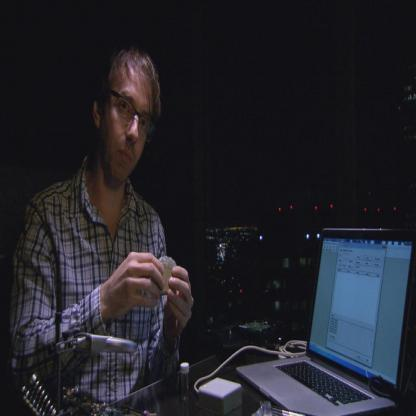board: (244, 223, 414, 410)
